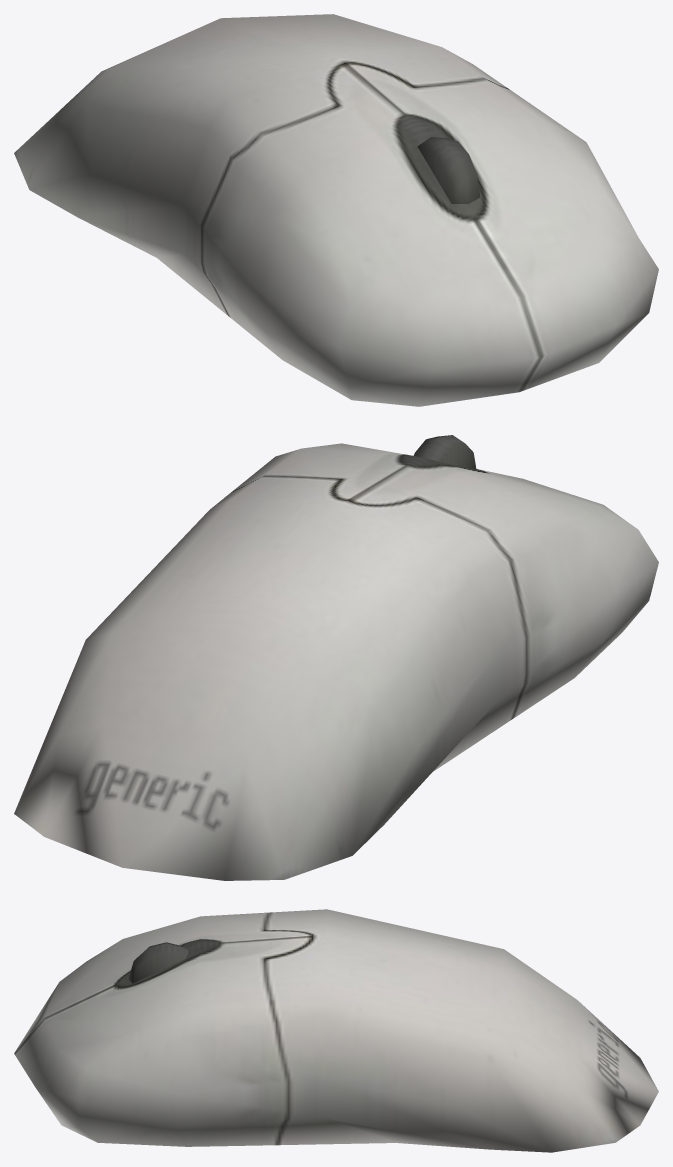
Rendered from Mouse_lod2.fbx.
3 views of the same model, one above another, from view 1: azimuth 30°, elevation 25°; view 2: azimuth 150°, elevation 25°; view 3: azimuth 270°, elevation 25° (orthographic). The views are drawn at different scales.
Parts seen in each view (by area): view 1: Mouse, Mouse_Wheel; view 2: Mouse, Mouse_Wheel; view 3: Mouse, Mouse_Wheel.
Boxes of the visible parts, box(x1,y1,x2,y2) form: Mouse: box(14, 14, 658, 406); Mouse_Wheel: box(417, 137, 480, 204); Mouse: box(14, 443, 658, 880); Mouse_Wheel: box(413, 435, 476, 469); Mouse: box(14, 909, 658, 1152); Mouse_Wheel: box(128, 942, 188, 983).
Bounding box in the file's own units: 1.14 × 0.6257 × 2.34.
